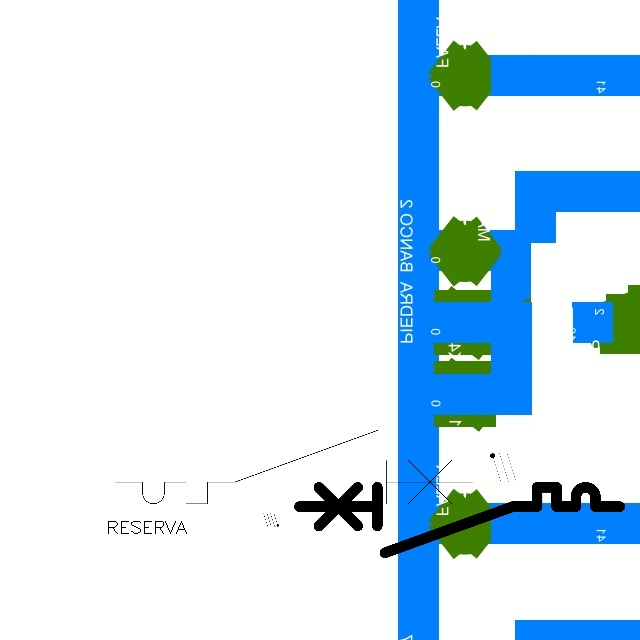interruptor_termomagnetico: (106, 421, 482, 513), (291, 479, 628, 561)
